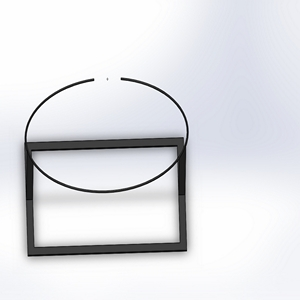circle: (22, 74, 190, 259)
